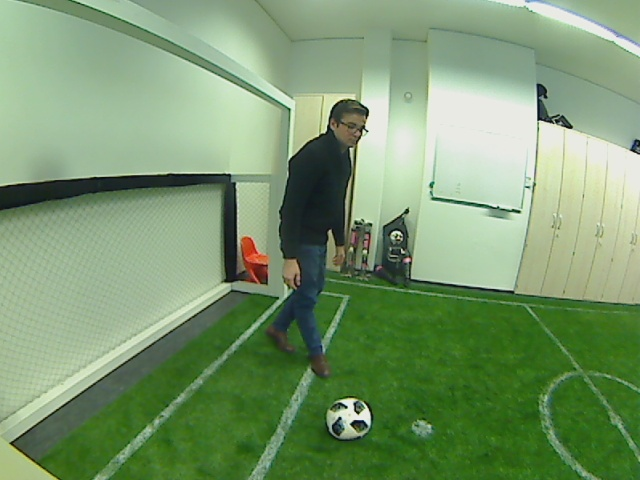ball: (324, 397, 374, 441)
